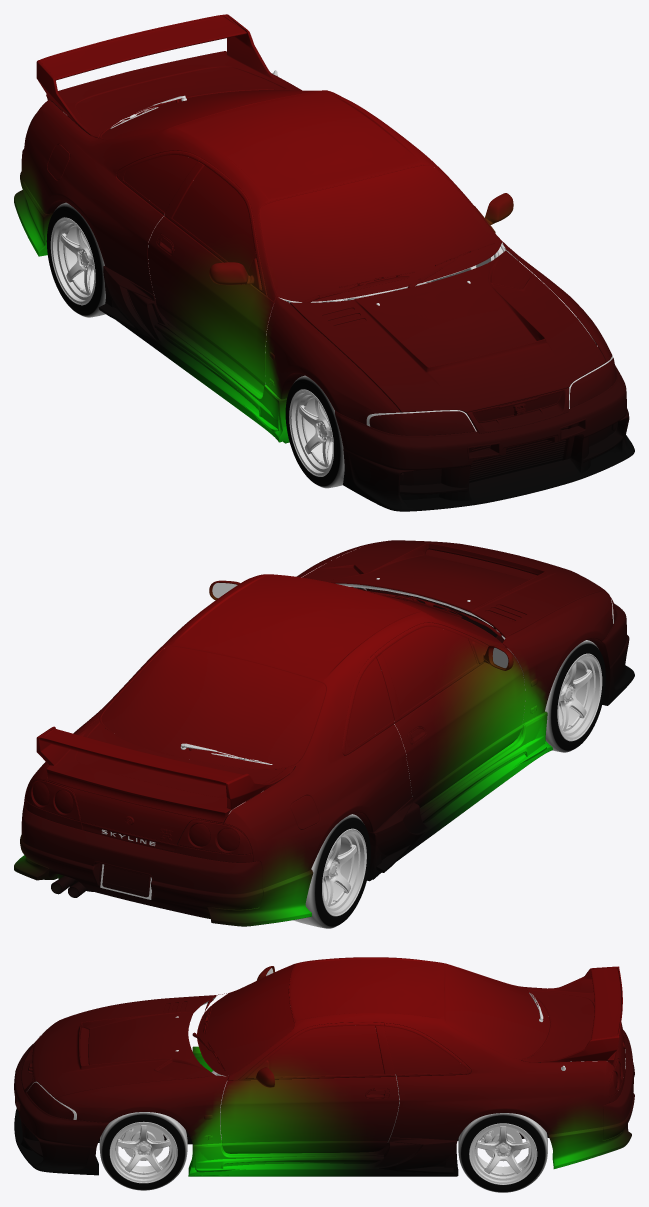
File: Skyline-GTR-R33-FH5.glb
3 renders of one model, top to bottom at view 1: azimuth 30°, elevation 25°; view 2: azimuth 150°, elevation 25°; view 3: azimuth 270°, elevation 25°, orthographic. The views are drawn at different scales.
Parts seen in each view (by area): view 1: body_a_LODS0 carpaint.009, hood_b_LODS0 carpaint.009, glassF_a_LODS0 gls_windsheild.009, bumperF_e_LODS0 carpaint.009, doorHandleRF_a_LODS0|doorRF_a_LODS0|mirrorBaseR_a_LODS0 car., wing_d_LODS0 carpaint.009, fenders_a_LODS0 carpaint.009, trunk_a_LODS0 carpaint.009, glassRF_a_LODS0 gls_window.009, glassR_a_LODS0 gls_window.009, skirtL_e_LODS0|skirtR_e_LODS0 carpaint.009, bumperF_e_LODS0 blkplastic_mgl.009 (+17 smaller); view 2: body_a_LODS0 carpaint.009, glassR_a_LODS0 gls_window.009, bumperR_e_LODS0 carpaint.009, hood_b_LODS0 carpaint.009, doorHandleRF_a_LODS0|doorRF_a_LODS0|mirrorBaseR_a_LODS0 car., wing_d_LODS0 carpaint.009, trunk_a_LODS0 carpaint.009, fenders_a_LODS0 carpaint.009, glassRF_a_LODS0 gls_window.009, skirtL_c_LODS0|skirtR_c_LODS0 carpaint.009, skirtL_e_LODS0|skirtR_e_LODS0 carpaint.009, glassRR_a_LODS0 gls_window.009 (+19 smaller); view 3: body_a_LODS0 carpaint.009, doorHandleLF_a_LODS0|doorLF_a_LODS0|mirrorBaseL_a_LODS0 car., hood_b_LODS0 carpaint.009, glassR_a_LODS0 gls_window.009, fenders_a_LODS0 carpaint.009, glassF_a_LODS0 gls_windsheild.009, bumperF_e_LODS0 carpaint.009, glassLF_a_LODS0 gls_window.009, wing_d_LODS0 carpaint.009, bumperR_e_LODS0 carpaint.009, trunk_a_LODS0 carpaint.009, skirtL_e_LODS0|skirtR_e_LODS0 carpaint.009 (+18 smaller).
Part boxes in pixels (x1,y1,x2,y2): body_a_LODS0 carpaint.009: [23, 74, 502, 301]; hood_b_LODS0 carpaint.009: [290, 250, 605, 412]; glassF_a_LODS0 gls_windsheild.009: [260, 165, 500, 301]; bumperF_e_LODS0 carpaint.009: [335, 365, 634, 511]; doorHandleRF_a_LODS0|doorRF_a_LODS0|mirrorBaseR_a_LODS0 car.: [148, 216, 274, 393]; wing_d_LODS0 carpaint.009: [36, 14, 294, 137]; fenders_a_LODS0 carpaint.009: [265, 242, 612, 425]; trunk_a_LODS0 carpaint.009: [50, 67, 284, 138]; glassRF_a_LODS0 gls_window.009: [172, 165, 254, 272]; glassR_a_LODS0 gls_window.009: [101, 89, 319, 139]; skirtL_e_LODS0|skirtR_e_LODS0 carpaint.009: [105, 289, 287, 442]; bumperF_e_LODS0 blkplastic_mgl.009: [469, 389, 578, 482]; body_a_LODS0 carpaint.009: [24, 574, 505, 888]; glassR_a_LODS0 gls_window.009: [101, 646, 325, 768]; bumperR_e_LODS0 carpaint.009: [14, 804, 313, 926]; hood_b_LODS0 carpaint.009: [302, 540, 605, 637]; doorHandleRF_a_LODS0|doorRF_a_LODS0|mirrorBaseR_a_LODS0 car.: [394, 641, 525, 807]; wing_d_LODS0 carpaint.009: [36, 718, 294, 822]; trunk_a_LODS0 carpaint.009: [48, 723, 294, 844]; fenders_a_LODS0 carpaint.009: [297, 540, 613, 723]; glassRF_a_LODS0 gls_window.009: [382, 626, 476, 714]; skirtL_c_LODS0|skirtR_c_LODS0 carpaint.009: [371, 711, 547, 872]; skirtL_e_LODS0|skirtR_e_LODS0 carpaint.009: [370, 724, 552, 879]; glassRR_a_LODS0 gls_window.009: [346, 658, 394, 748]; body_a_LODS0 carpaint.009: [227, 957, 625, 1140]; doorHandleLF_a_LODS0|doorLF_a_LODS0|mirrorBaseL_a_LODS0 car.: [220, 1060, 399, 1153]; hood_b_LODS0 carpaint.009: [32, 995, 216, 1098]; glassR_a_LODS0 gls_window.009: [445, 964, 550, 1058]; fenders_a_LODS0 carpaint.009: [56, 993, 228, 1144]; glassF_a_LODS0 gls_windsheild.009: [198, 964, 294, 1075]; bumperF_e_LODS0 carpaint.009: [14, 1043, 108, 1175]; glassLF_a_LODS0 gls_window.009: [271, 1025, 384, 1076]; wing_d_LODS0 carpaint.009: [521, 966, 622, 1066]; bumperR_e_LODS0 carpaint.009: [548, 1030, 634, 1168]; trunk_a_LODS0 carpaint.009: [521, 990, 625, 1071]; skirtL_e_LODS0|skirtR_e_LODS0 carpaint.009: [188, 1141, 458, 1176].
Bounding box in the file's own units: 2 × 1.35 × 4.7.
